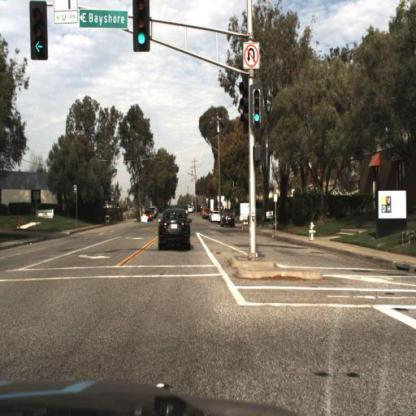car: (157, 205, 195, 252), (218, 207, 238, 232), (209, 206, 224, 228), (141, 208, 155, 225)
trafficLight-Green: (250, 84, 264, 128)
